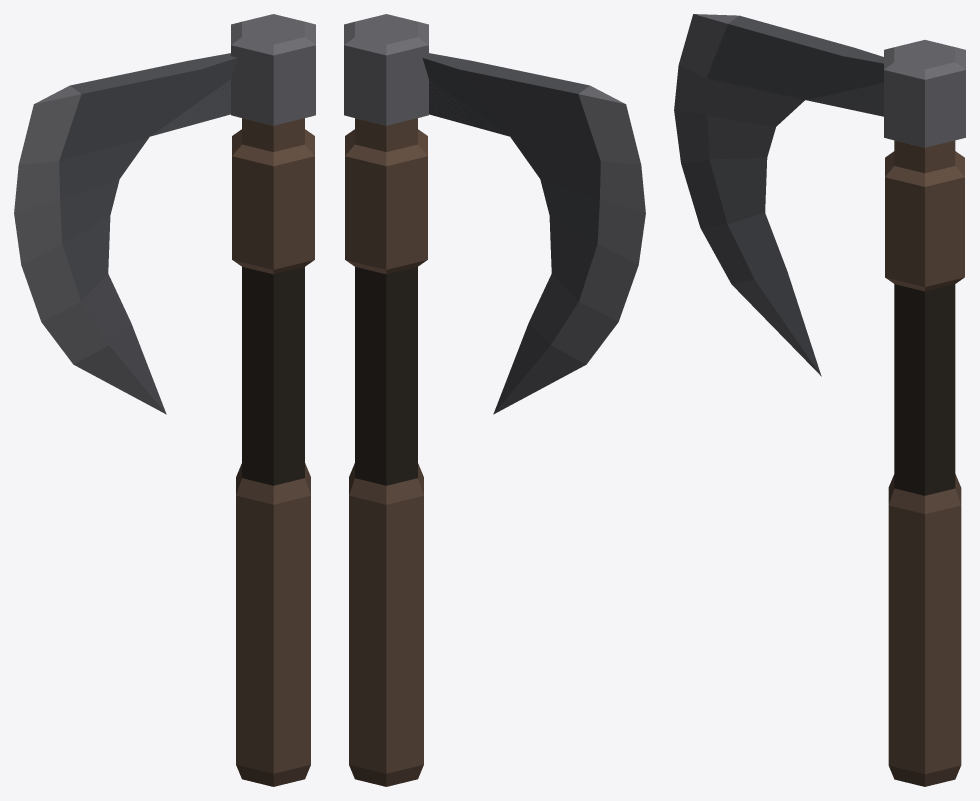
File: Axe.fbx
3 views of the same model, side by side, from view 1: azimuth 30°, elevation 25°; view 2: azimuth 150°, elevation 25°; view 3: azimuth 330°, elevation 25° (orthographic). The views are drawn at different scales.
Parts seen in each view (by area): view 1: pPlane469; view 2: pPlane469; view 3: pPlane469.
Part boxes in pixels (<box>): pPlane469: <box>14,14,315,786</box>; pPlane469: <box>344,14,645,786</box>; pPlane469: <box>674,14,965,786</box>.
Size of the model in its own units: 38.31 by 90 by 9.32.
